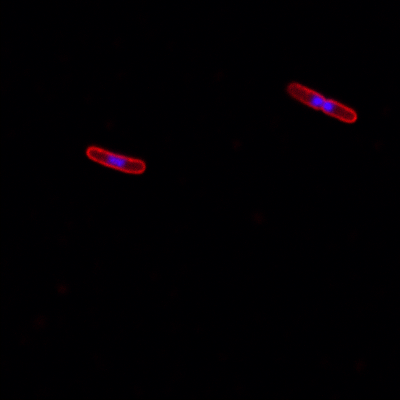Nalidixate: (286, 80, 359, 125), (84, 144, 148, 175)
